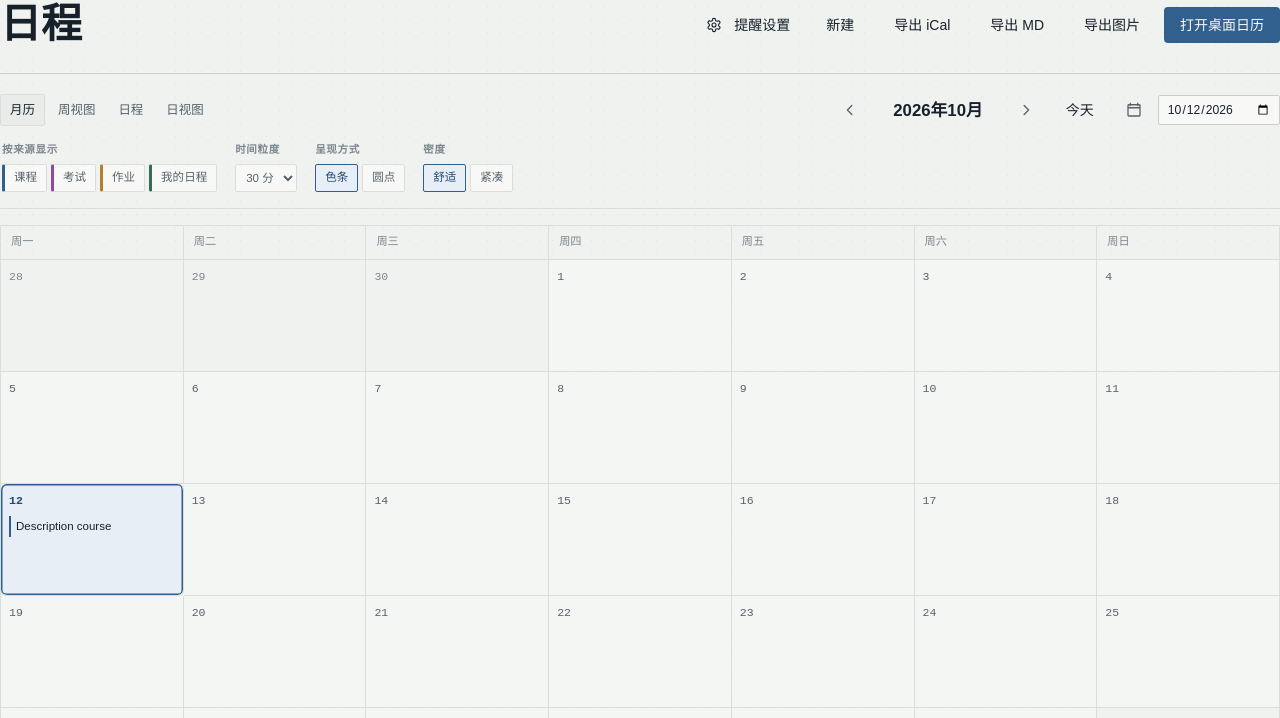
Scenario: ScheduleView › shows teacher and location as peer metadata, separate from the editable description
Click the button "Description course".
click(92, 527)  # box [9, 516, 175, 537]
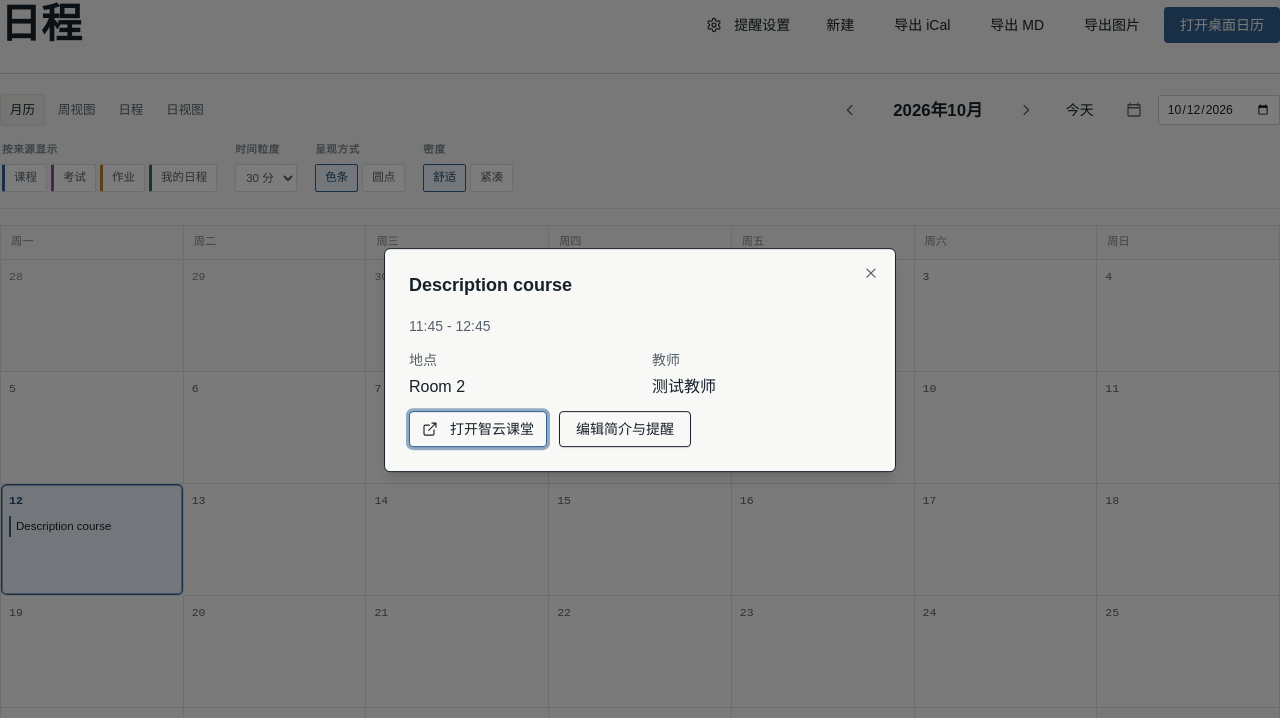
Now the text "Room 2" is shown, box [409, 378, 465, 395]
Now the text "教师" is shown, box [652, 352, 680, 368]
Now the text "测试教师" is shown, box [652, 378, 716, 395]
Click the button "编辑简介与提醒".
click(625, 429)  # box [559, 411, 691, 447]
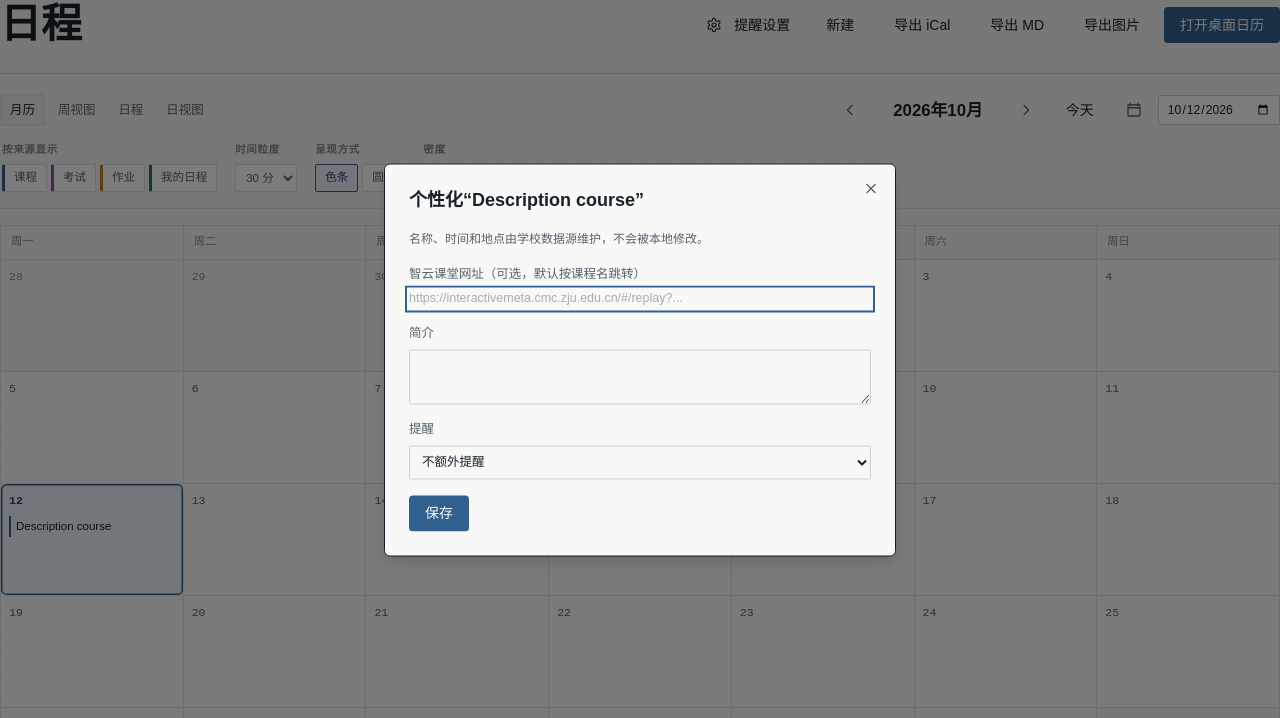
Now the number of dialogs is 1, box [384, 164, 896, 556]
Now the text box labelled "简介" is empty, box [409, 349, 871, 405]
